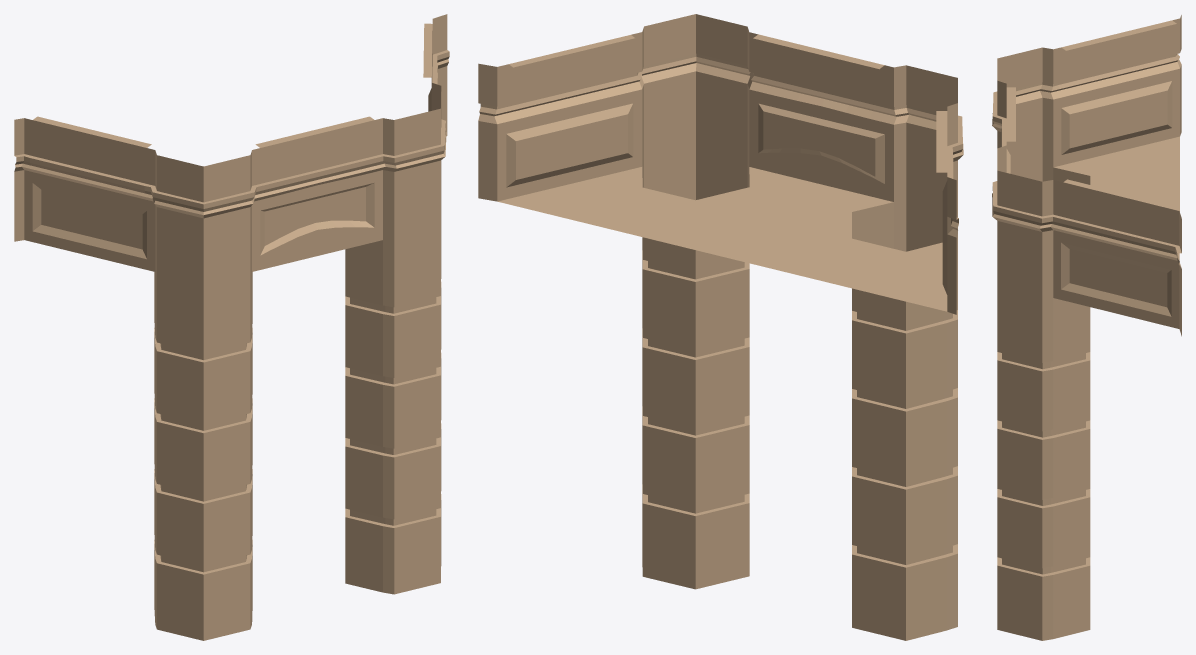
Rendered from O_FaceTypeHexDoubleWindow_Bottom.fbx.
The picture shows the model from 3 angles, left to right: view 1: azimuth 30°, elevation 25°; view 2: azimuth 150°, elevation 25°; view 3: azimuth 270°, elevation 25°; orthographic projection. The views are drawn at different scales.
Visible parts, largest first — view 1: O_FacadeTypeHexDoubleWindow_Bottom; view 2: O_FacadeTypeHexDoubleWindow_Bottom; view 3: O_FacadeTypeHexDoubleWindow_Bottom.
Boxes of the visible parts, box(x1,y1,x2,y2) form: O_FacadeTypeHexDoubleWindow_Bottom: box(14, 14, 449, 640); O_FacadeTypeHexDoubleWindow_Bottom: box(478, 14, 963, 640); O_FacadeTypeHexDoubleWindow_Bottom: box(992, 15, 1181, 640).
Bounding box in the file's own units: 621 × 650 × 243.
